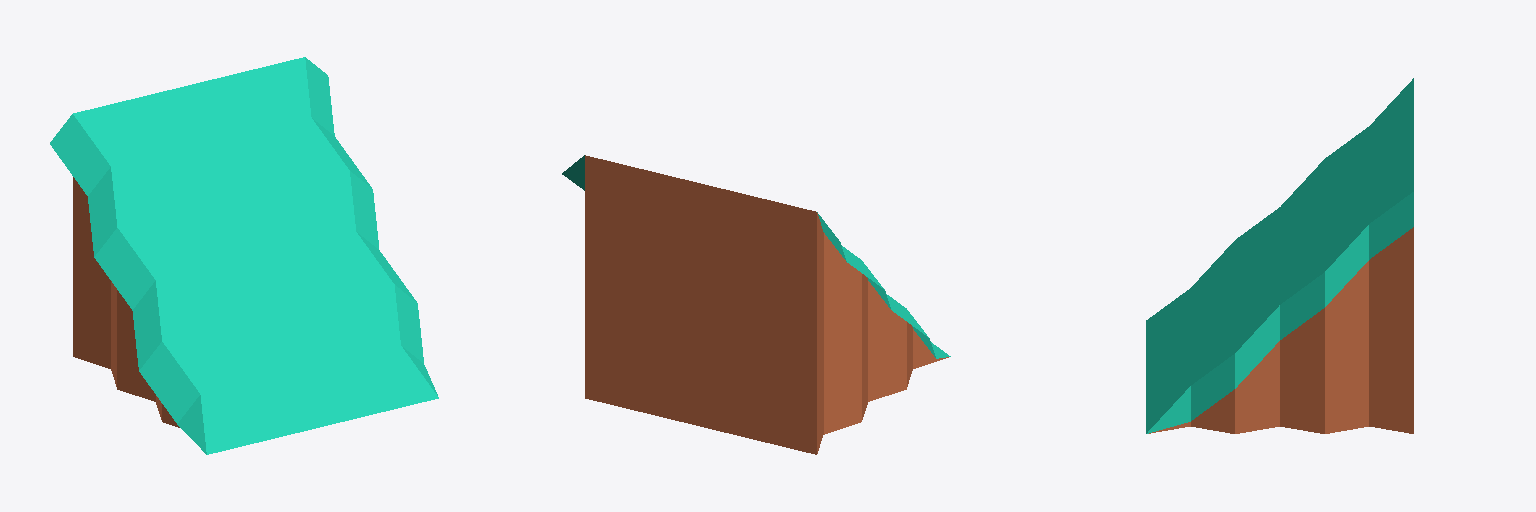
File: cliff_blockSlope_rock.obj
3 views of the same model, side by side, from view 1: azimuth 30°, elevation 25°; view 2: azimuth 150°, elevation 25°; view 3: azimuth 270°, elevation 25° (orthographic).
Visible parts, largest first — view 1: cliff_blockSlope_rock; view 2: cliff_blockSlope_rock; view 3: cliff_blockSlope_rock.
Boxes of the visible parts, x1,y1,x2,y2 form: cliff_blockSlope_rock: [50, 57, 438, 454]; cliff_blockSlope_rock: [562, 155, 950, 454]; cliff_blockSlope_rock: [1146, 78, 1413, 433].
Size of the model in its own units: 1.2 by 1 by 1.